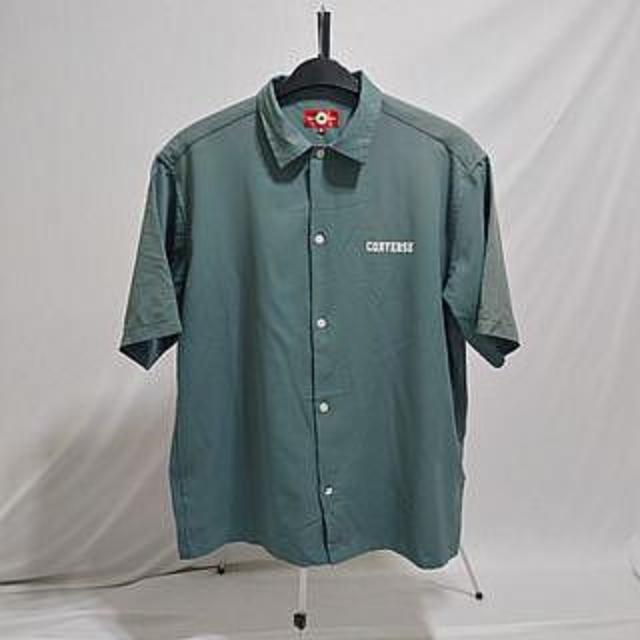SHIRT: (114, 56, 530, 578)
